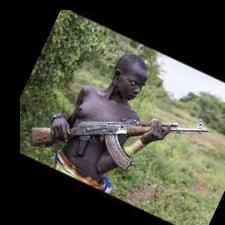larga: (30, 119, 209, 171)
